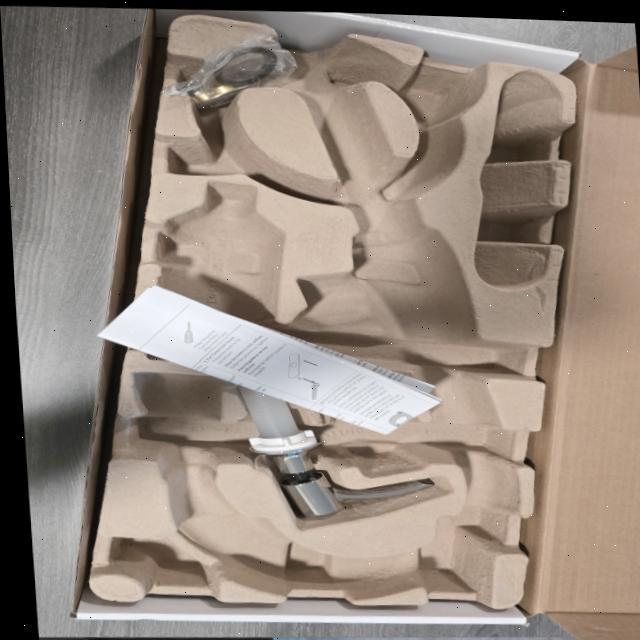1m: (134, 27, 513, 597)
2o: (237, 386, 433, 518)
3m: (150, 181, 286, 363)
4m: (478, 71, 559, 288)
5m: (405, 75, 466, 122)
6: (160, 28, 299, 113)
7m: (164, 121, 299, 187)
8: (96, 283, 440, 435)
